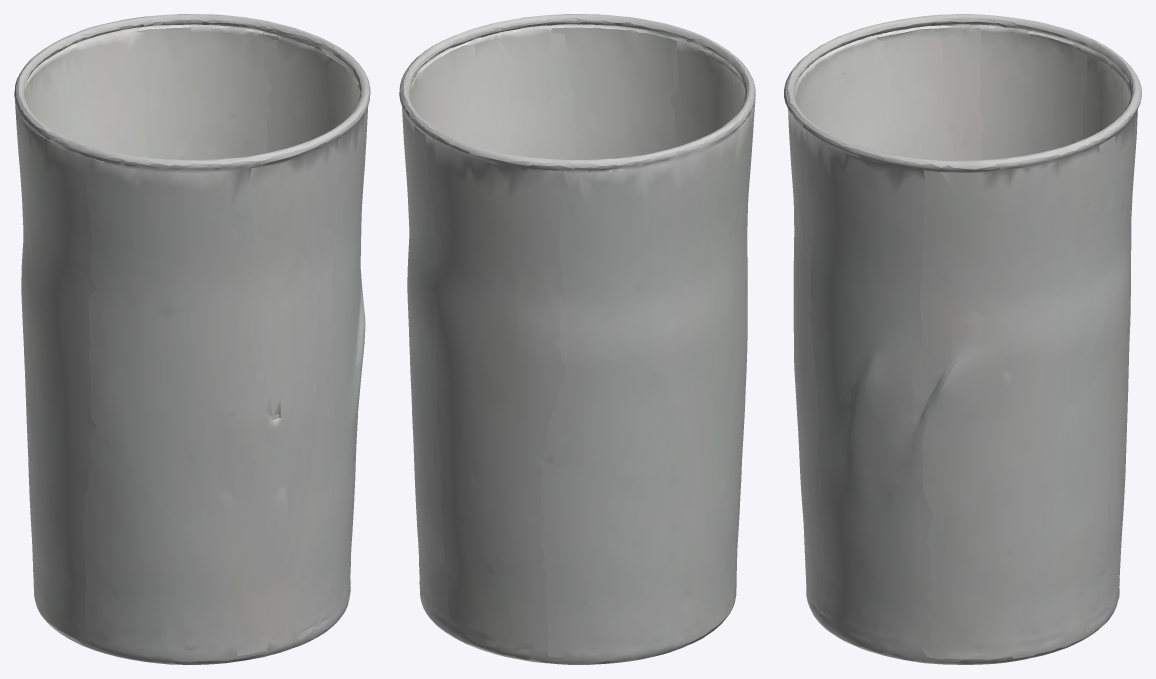
File: cup.glb
3 renders of one model, left to right at view 1: azimuth 30°, elevation 25°; view 2: azimuth 150°, elevation 25°; view 3: azimuth 270°, elevation 25°, orthographic.
Visible parts, largest first — view 1: world; view 2: world; view 3: world.
Boxes of the visible parts, x1,y1,x2,y2 form: world: (14,14,370,664); world: (399,14,755,664); world: (784,14,1141,664).
Bounding box in the file's own units: 0.0948 × 0.15 × 0.0947.
1 material, 1 textured.
